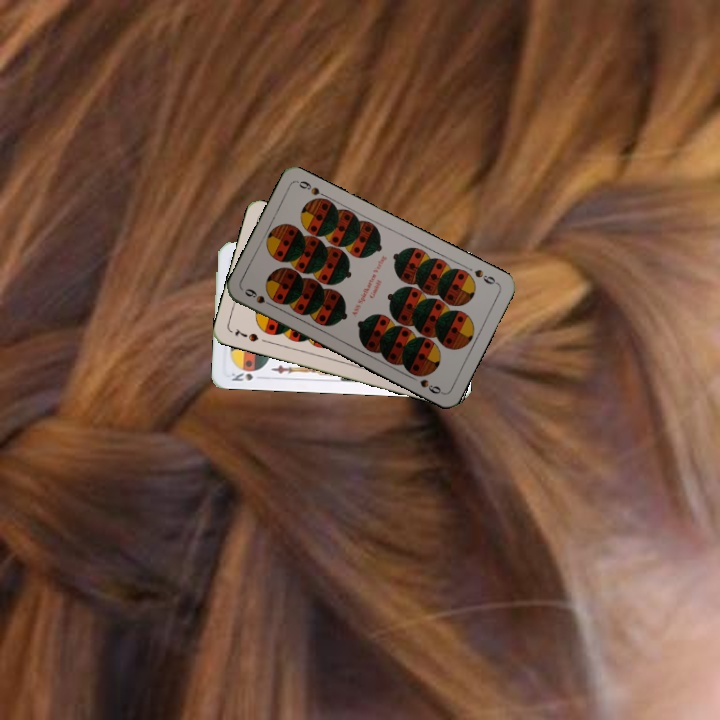S7: (231, 324, 261, 344)
S9: (241, 284, 278, 310), (470, 265, 501, 287)
SK: (227, 368, 266, 384)
